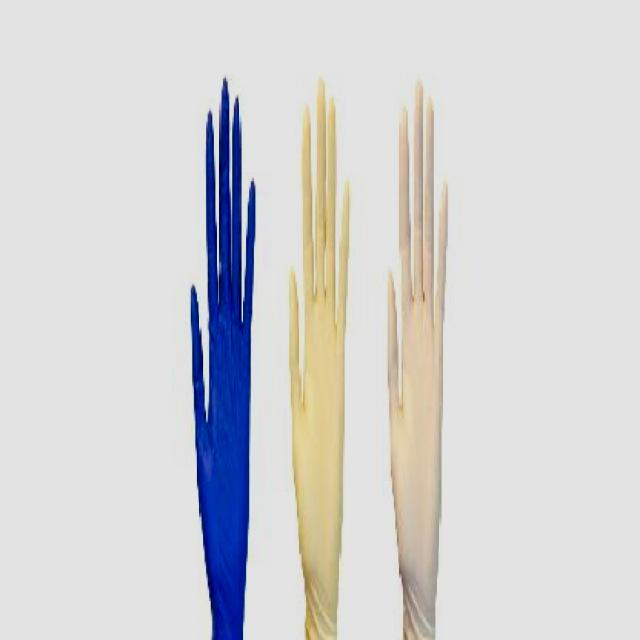glove: (377, 36, 457, 638), (190, 53, 259, 638), (290, 83, 350, 637)
